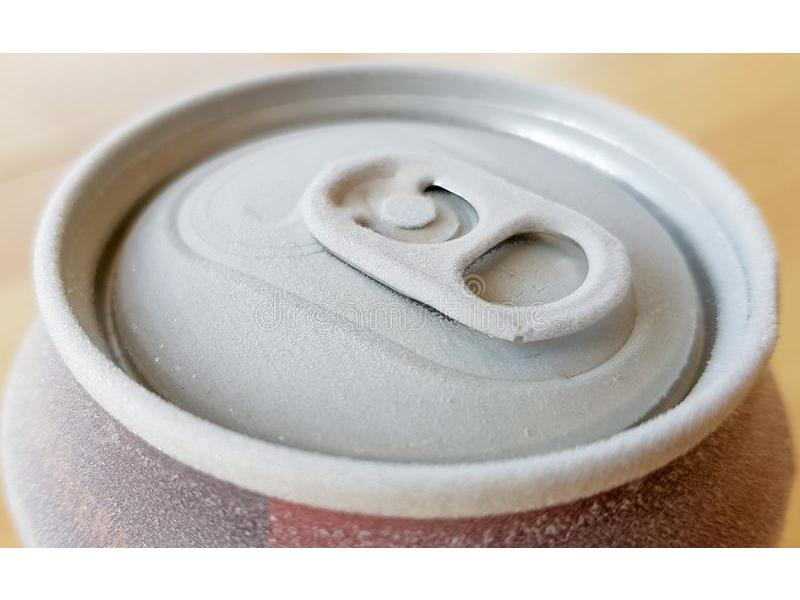can: (19, 50, 796, 522)
